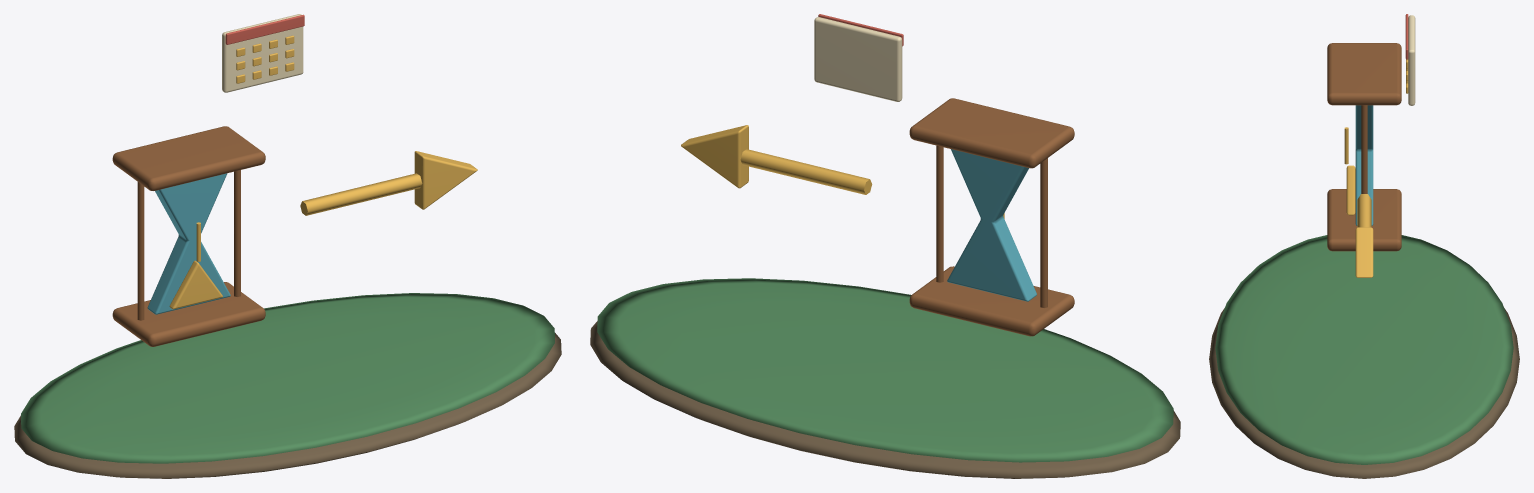
The model's file is complete-third-about-to-arrive.glb.
3 renders of one model, left to right at view 1: azimuth 30°, elevation 25°; view 2: azimuth 150°, elevation 25°; view 3: azimuth 270°, elevation 25°, orthographic. The views are drawn at different scales.
Visible parts, largest first — view 1: complete-third-about-to-arrive_surface_01, complete-third-about-to-arrive_surface_02, complete-third-about-to-arrive_surface_00, complete-third-about-to-arrive_surface_04, complete-third-about-to-arrive_surface_03, complete-third-about-to-arrive_surface_05, complete-third-about-to-arrive_surface_06; view 2: complete-third-about-to-arrive_surface_01, complete-third-about-to-arrive_surface_02, complete-third-about-to-arrive_surface_00, complete-third-about-to-arrive_surface_03, complete-third-about-to-arrive_surface_05, complete-third-about-to-arrive_surface_04; view 3: complete-third-about-to-arrive_surface_01, complete-third-about-to-arrive_surface_02, complete-third-about-to-arrive_surface_00, complete-third-about-to-arrive_surface_04, complete-third-about-to-arrive_surface_03, complete-third-about-to-arrive_surface_05.
Part boxes in pixels (x1=…): complete-third-about-to-arrive_surface_01: x1=21, y1=293, x2=554, y2=463; complete-third-about-to-arrive_surface_02: x1=112, y1=126, x2=265, y2=346; complete-third-about-to-arrive_surface_00: x1=14, y1=333, x2=561, y2=478; complete-third-about-to-arrive_surface_04: x1=169, y1=35, x2=477, y2=309; complete-third-about-to-arrive_surface_03: x1=147, y1=173, x2=230, y2=314; complete-third-about-to-arrive_surface_05: x1=222, y1=14, x2=303, y2=92; complete-third-about-to-arrive_surface_06: x1=225, y1=14, x2=304, y2=44; complete-third-about-to-arrive_surface_01: x1=597, y1=278, x2=1173, y2=462; complete-third-about-to-arrive_surface_02: x1=909, y1=98, x2=1074, y2=336; complete-third-about-to-arrive_surface_00: x1=590, y1=321, x2=1180, y2=478; complete-third-about-to-arrive_surface_03: x1=947, y1=149, x2=1036, y2=301; complete-third-about-to-arrive_surface_05: x1=814, y1=17, x2=902, y2=101; complete-third-about-to-arrive_surface_04: x1=681, y1=125, x2=1004, y2=218; complete-third-about-to-arrive_surface_01: x1=1215, y1=235, x2=1513, y2=464; complete-third-about-to-arrive_surface_02: x1=1327, y1=43, x2=1401, y2=251; complete-third-about-to-arrive_surface_00: x1=1209, y1=308, x2=1519, y2=478; complete-third-about-to-arrive_surface_04: x1=1344, y1=59, x2=1408, y2=277; complete-third-about-to-arrive_surface_03: x1=1355, y1=105, x2=1373, y2=225; complete-third-about-to-arrive_surface_05: x1=1408, y1=15, x2=1415, y2=105.
Bounding box in the file's own units: 4.56 × 3.04 × 2.5.
